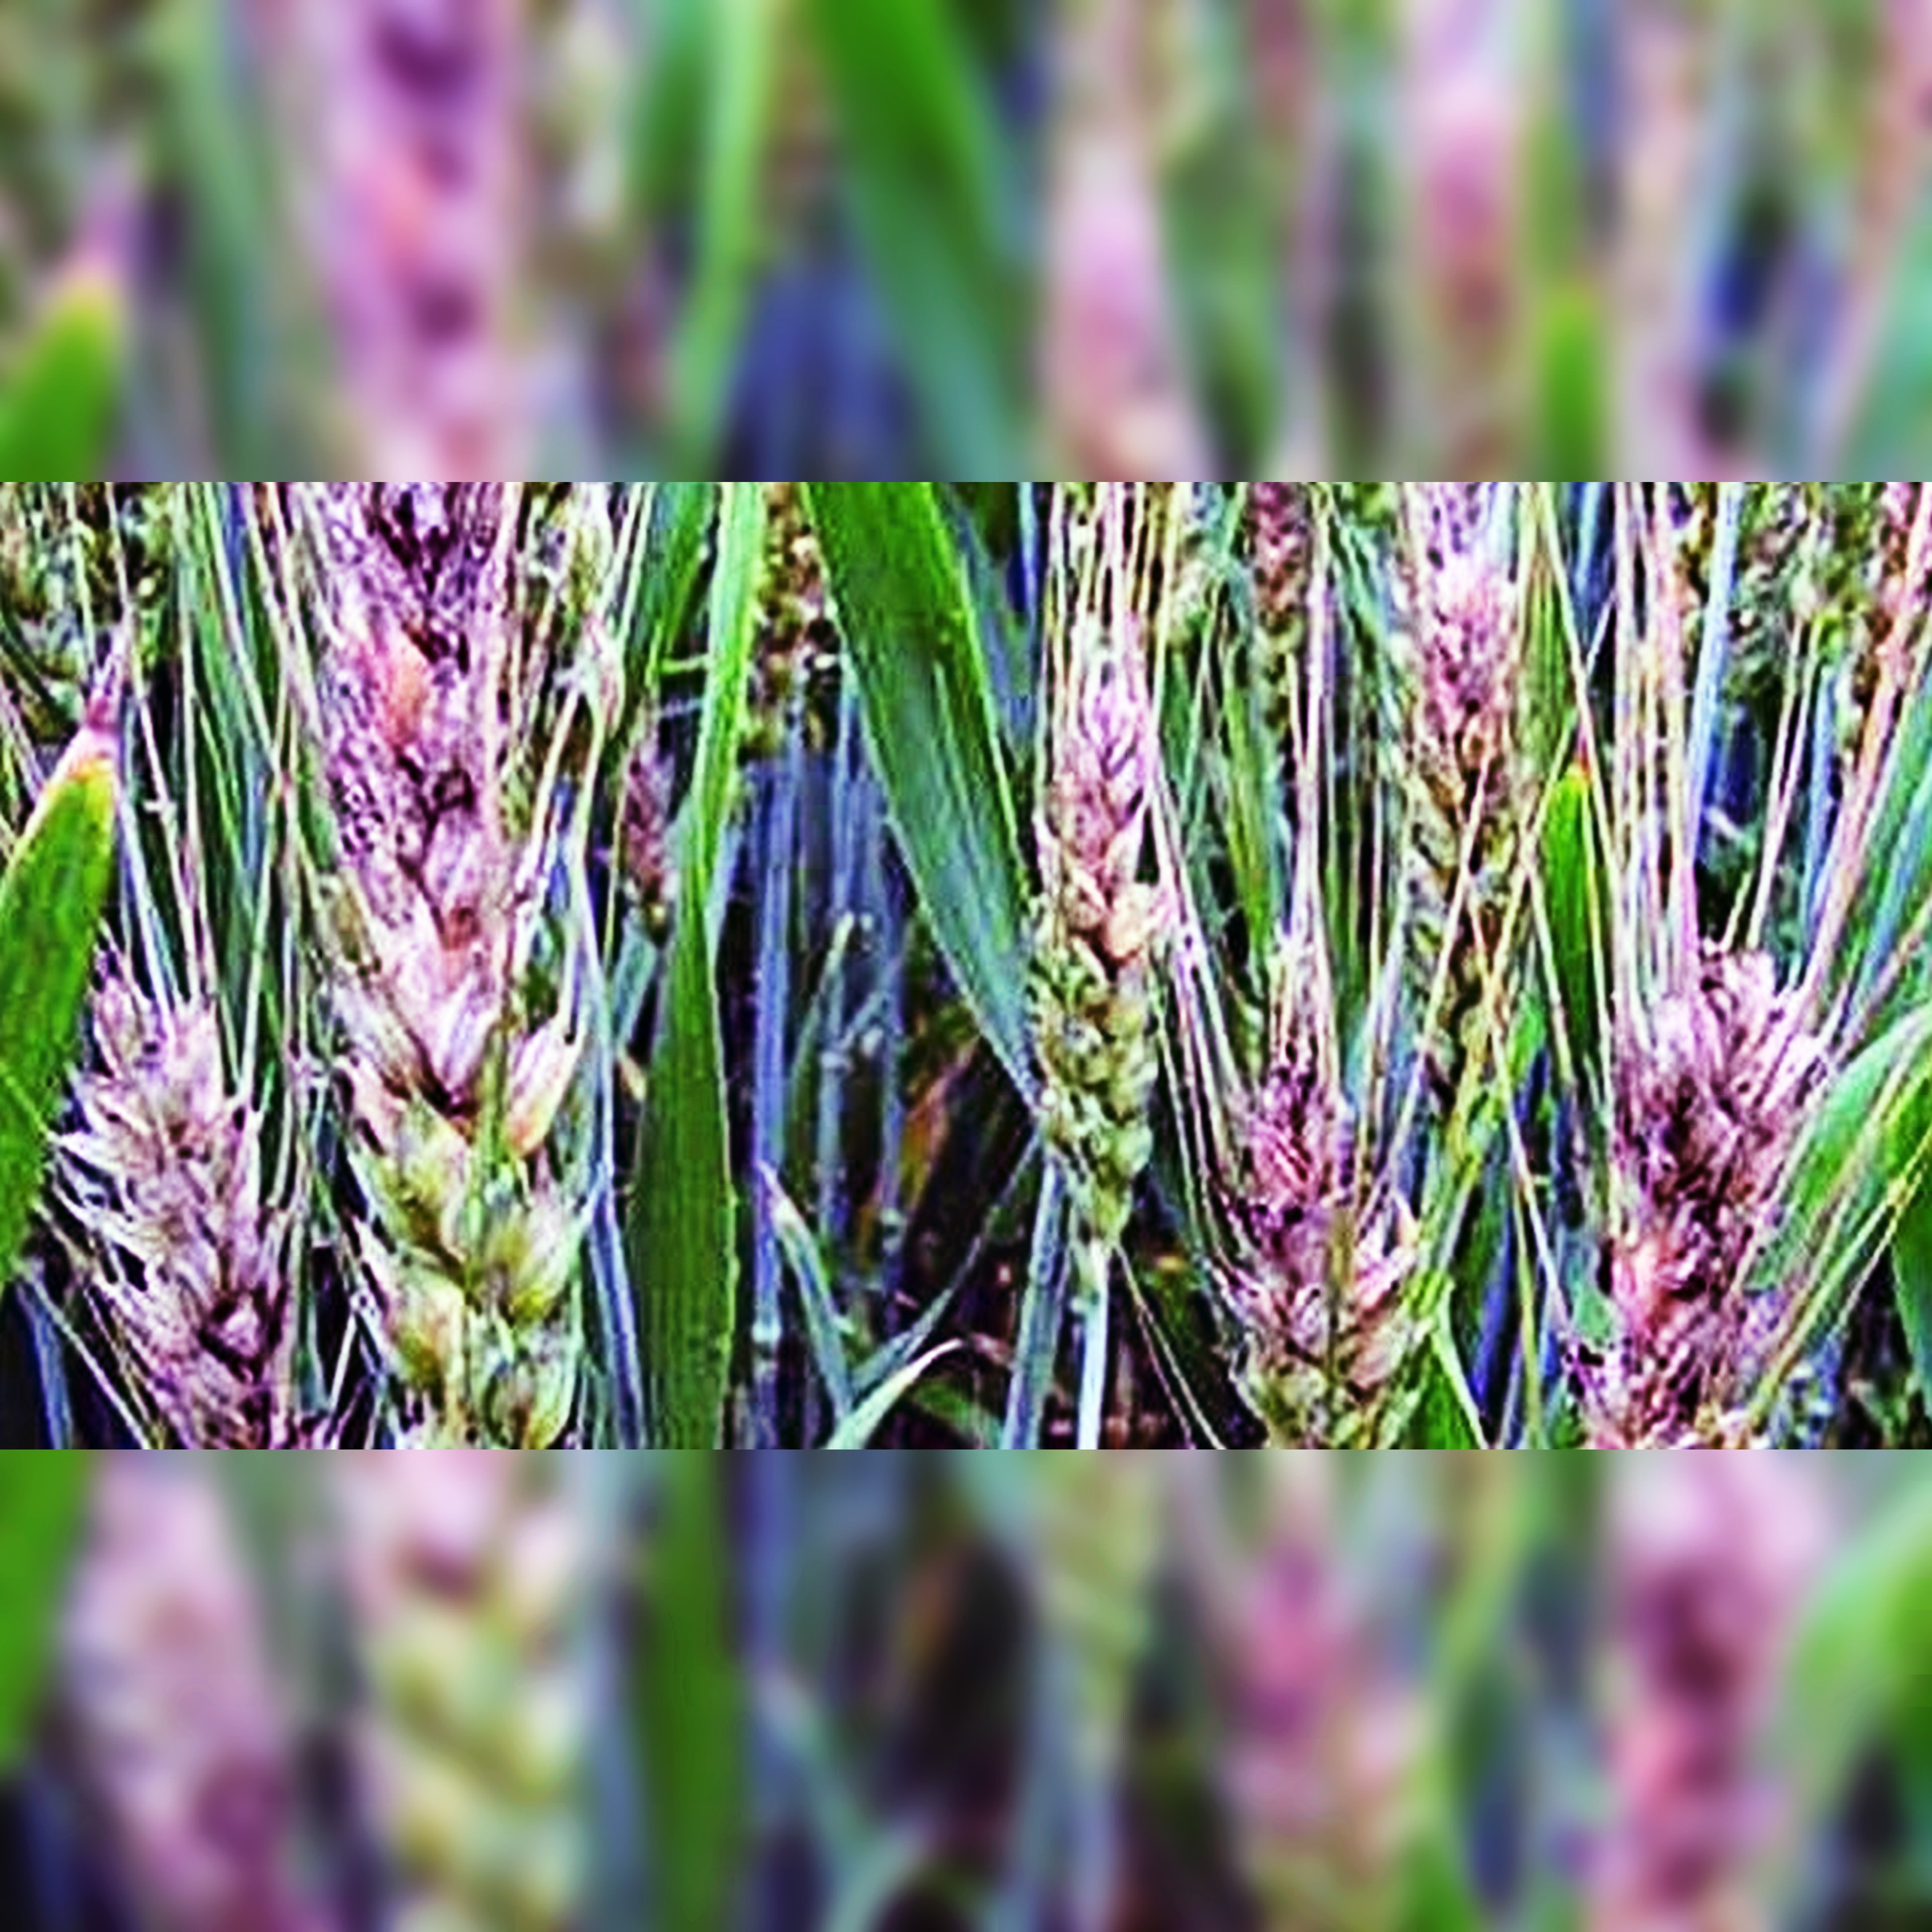Wheat scab: (984, 626, 1166, 1215)
